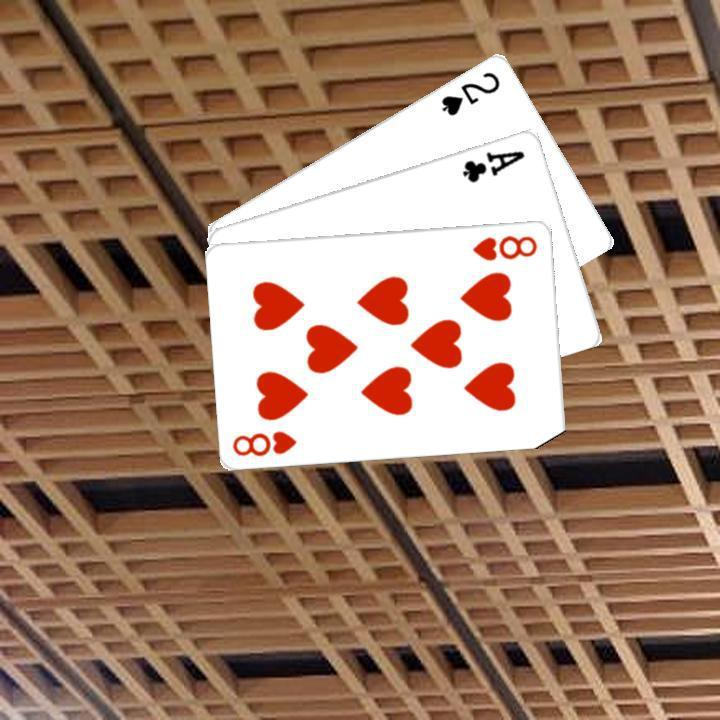2: (437, 66, 503, 118)
8: (468, 230, 540, 263), (229, 426, 299, 458)
A: (458, 146, 527, 184)
